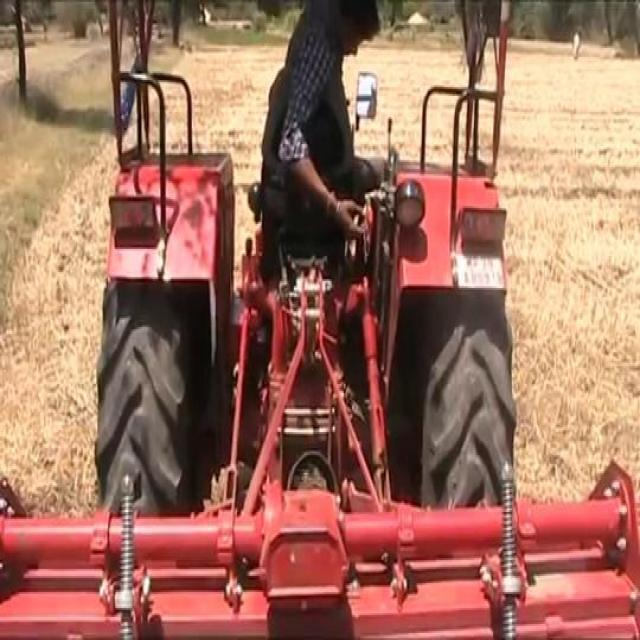Tratores - v5 YOLO V8L 2024-11-13: (95, 1, 519, 502)
